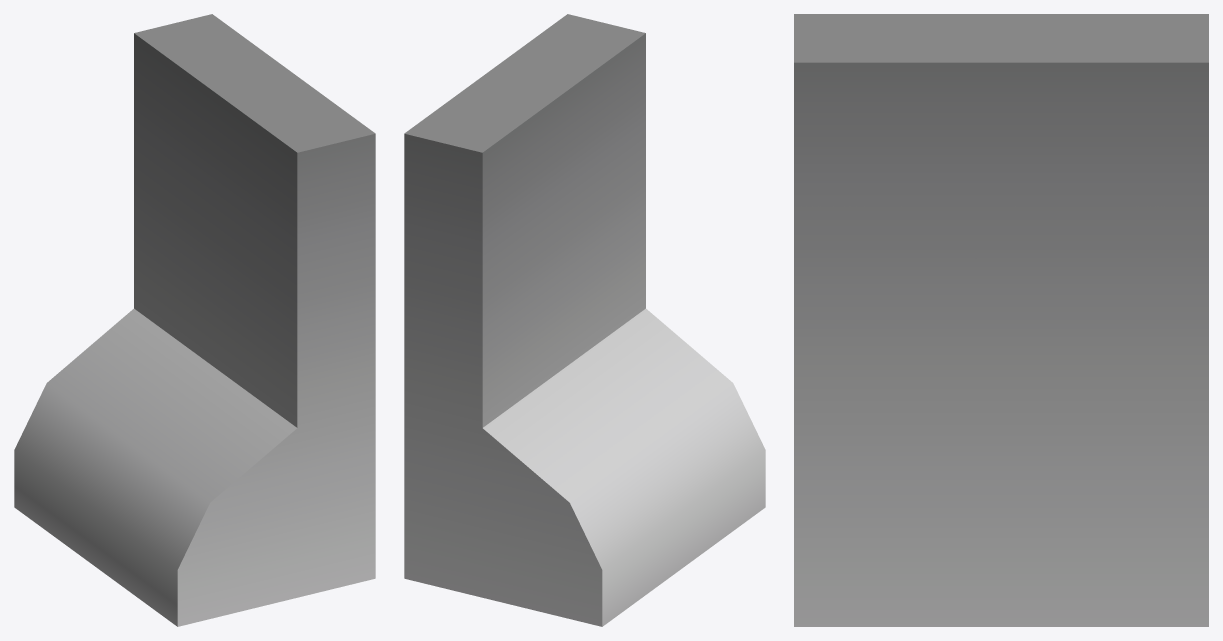
File: ST_Fan.fbx
3 renders of one model, left to right at view 1: azimuth 30°, elevation 25°; view 2: azimuth 150°, elevation 25°; view 3: azimuth 270°, elevation 25°, orthographic. The views are drawn at different scales.
Parts seen in each view (by area): view 1: ST_Fan; view 2: ST_Fan; view 3: ST_Fan.
Part boxes in pixels (left/top/right/bottom): ST_Fan: left=14, top=14, right=375, bottom=626; ST_Fan: left=404, top=14, right=765, bottom=626; ST_Fan: left=794, top=14, right=1208, bottom=626.
Size of the model in its own units: 43.94 by 94.29 by 62.79.
